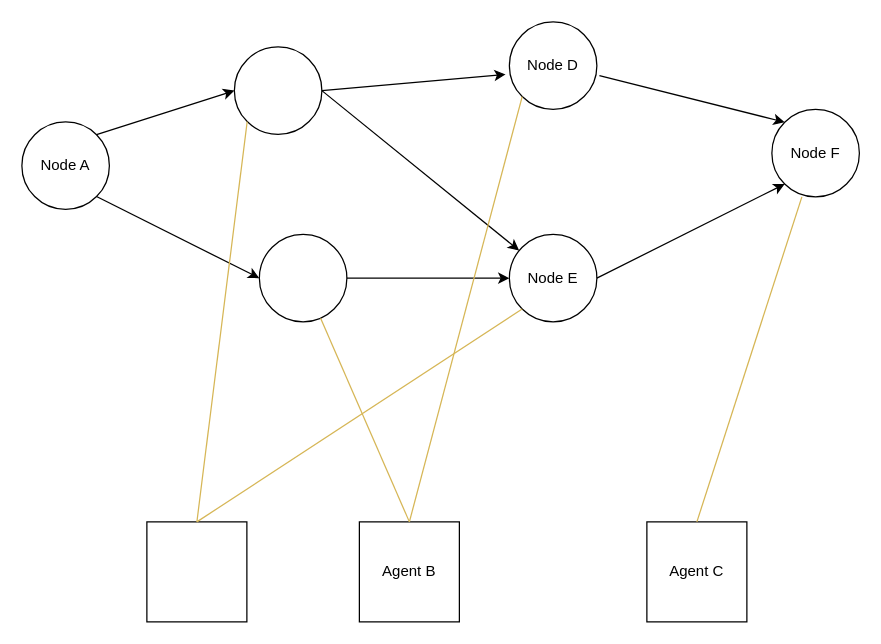
Some shapes in this 881 by 644 pixel diagram are drawn without their labels. The shapes that lost their labels are listed below. From the top down, each one's box as (x1, y1, x2, y2) in pixels, then its label:
(233, 46, 322, 134): Node B
(258, 233, 347, 322): Node C
(146, 521, 247, 622): Agent A
